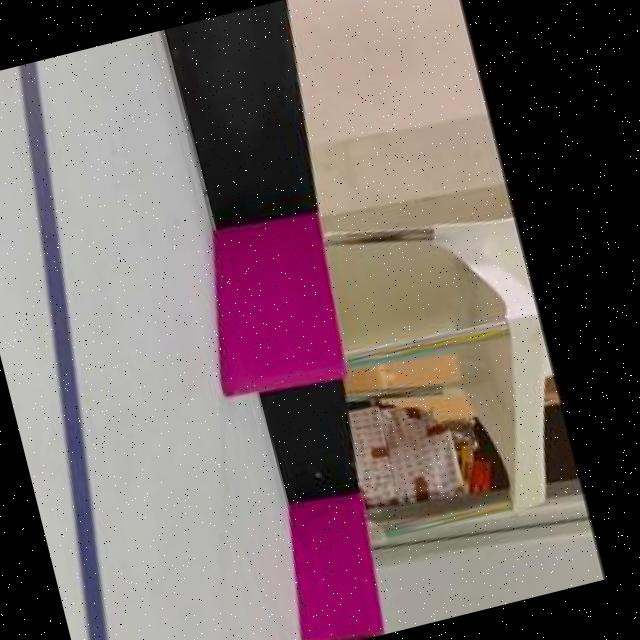xparking: (194, 220, 343, 397), (276, 497, 384, 640)
